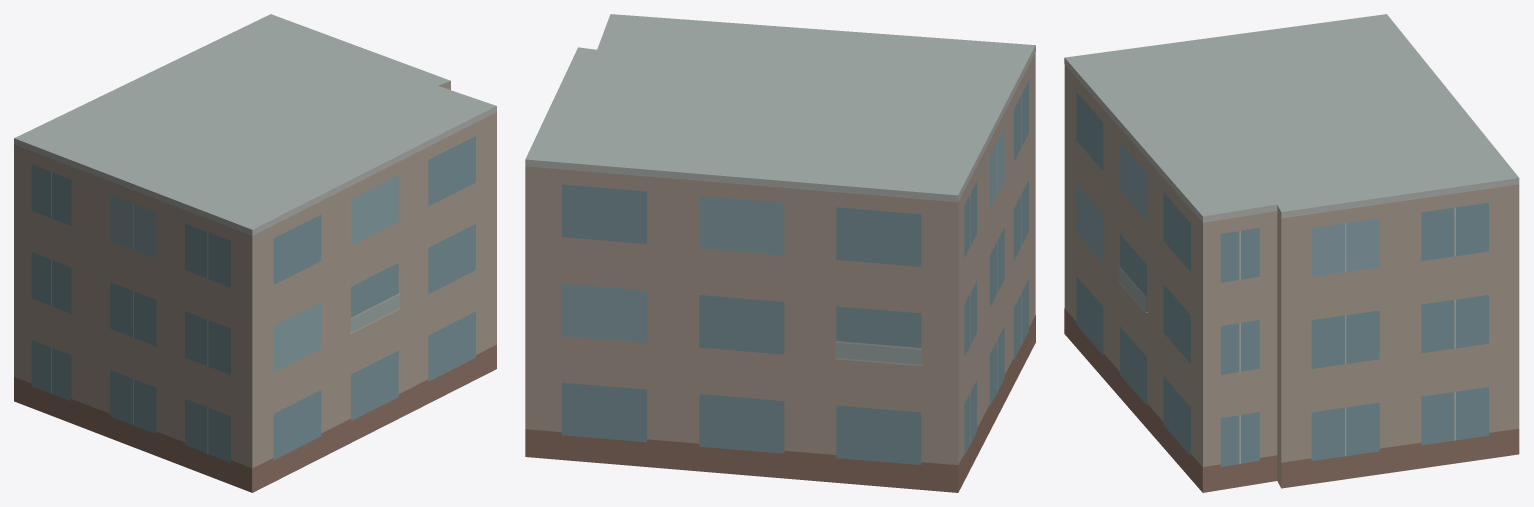
File: survey-upis-32673899.glb
3 views of the same model, side by side, from view 1: azimuth 30°, elevation 25°; view 2: azimuth 150°, elevation 25°; view 3: azimuth 270°, elevation 25° (orthographic). The views are drawn at different scales.
Visible parts, largest first — view 1: survey-upis-32673899.tmp; view 2: survey-upis-32673899.tmp; view 3: survey-upis-32673899.tmp.
Boxes of the visible parts, x1,y1,x2,y2 form: survey-upis-32673899.tmp: (14,14,496,492); survey-upis-32673899.tmp: (525,14,1035,492); survey-upis-32673899.tmp: (1064,14,1519,492).
Bounding box in the file's own units: 16.52 × 10.5 × 15.68.
